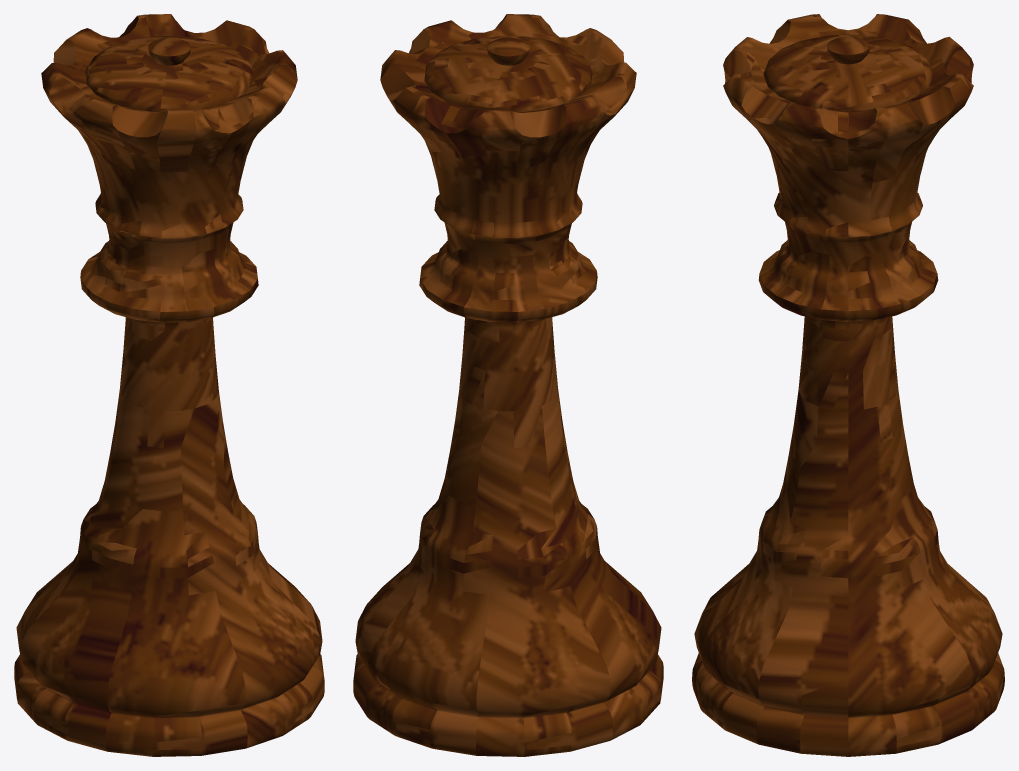
Rendered from reinaNegra.obj.
3 views of the same model, side by side, from view 1: azimuth 30°, elevation 25°; view 2: azimuth 150°, elevation 25°; view 3: azimuth 270°, elevation 25° (orthographic).
Visible parts, largest first — view 1: body; view 2: body; view 3: body.
Part boxes in pixels (bbox=[...]): body: bbox=[14, 14, 324, 756]; body: bbox=[353, 14, 663, 756]; body: bbox=[692, 14, 1004, 756].
Bounding box in the file's own units: 1.86 × 4.29 × 1.86.
1 material, 1 textured.
